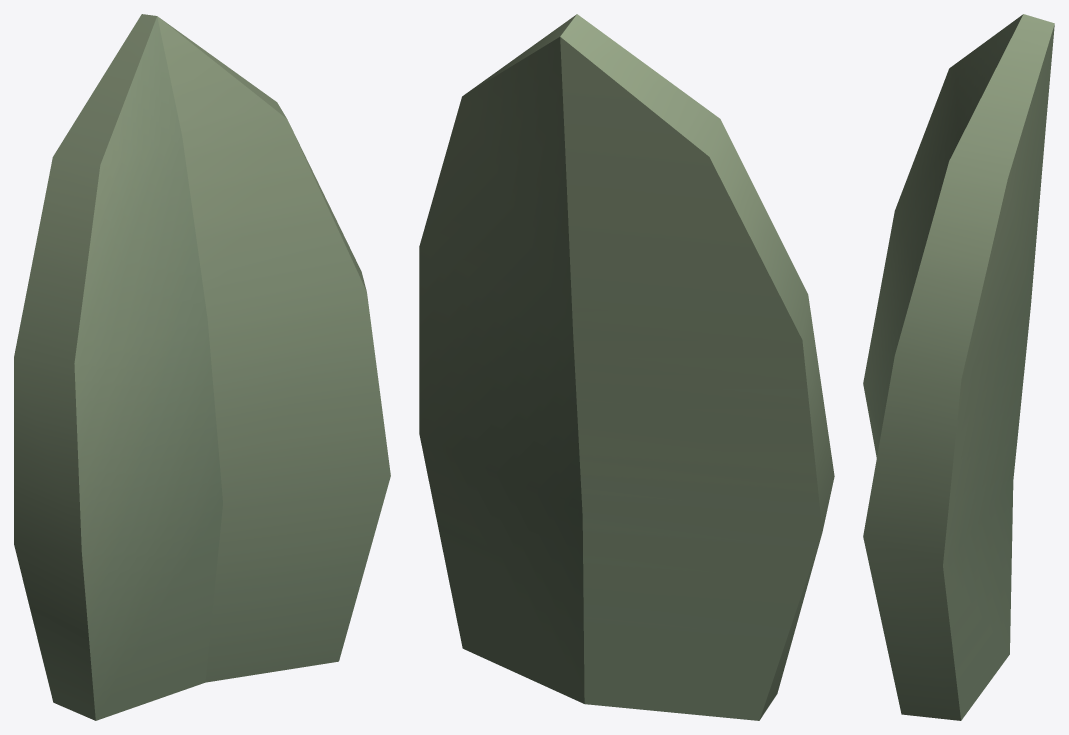
The model's file is Grass_1_A.glb.
3 renders of one model, left to right at view 1: azimuth 30°, elevation 25°; view 2: azimuth 150°, elevation 25°; view 3: azimuth 270°, elevation 25°, orthographic. The views are drawn at different scales.
Parts seen in each view (by area): view 1: Grass_1_A_Color1; view 2: Grass_1_A_Color1; view 3: Grass_1_A_Color1.
Part boxes in pixels (box(x1,y1,x2,y2)): Grass_1_A_Color1: box(14, 14, 390, 720); Grass_1_A_Color1: box(419, 14, 834, 720); Grass_1_A_Color1: box(863, 14, 1054, 720).
Size of the model in its own units: 0.3393 by 0.5593 by 0.1518.
1 material, 1 textured.
